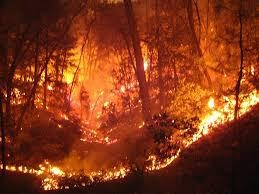fire: (2, 29, 246, 176), (0, 147, 69, 190)
